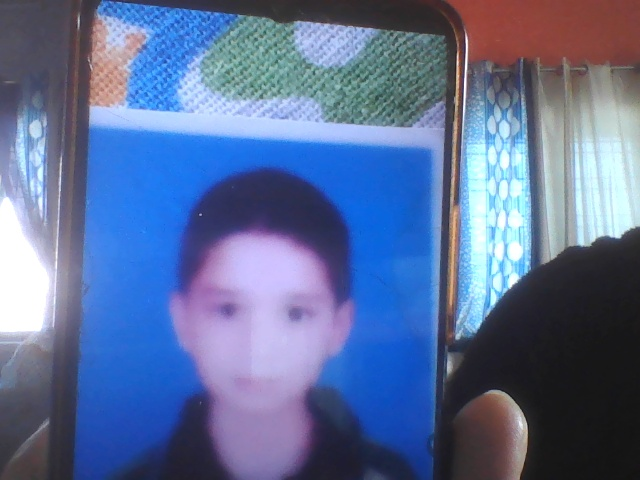fake: (168, 168, 360, 440)
